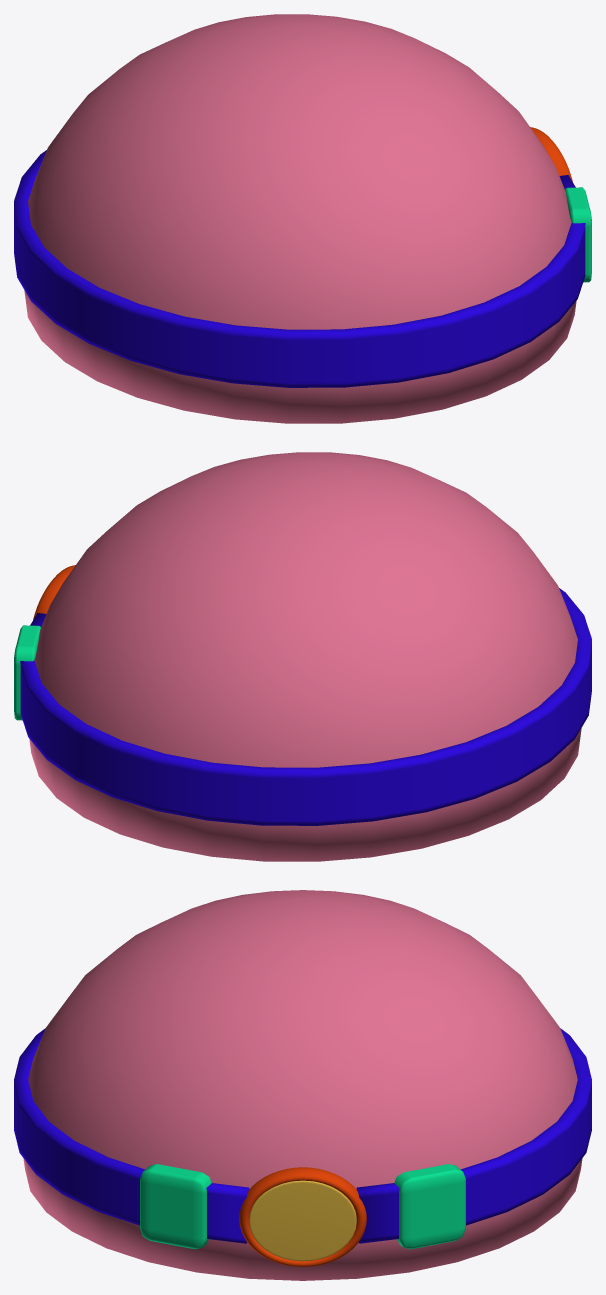
The model's file is helmet.fbx.
3 renders of one model, top to bottom at view 1: azimuth 30°, elevation 25°; view 2: azimuth 150°, elevation 25°; view 3: azimuth 270°, elevation 25°, orthographic. The views are drawn at different scales.
Parts seen in each view (by area): view 1: helmet; view 2: helmet; view 3: helmet.
Part boxes in pixels (x1,y1,x2,y2): helmet: (14, 14, 591, 423); helmet: (14, 452, 591, 861); helmet: (14, 890, 591, 1280).
Bounding box in the file's own units: 193 × 97.47 × 203.
